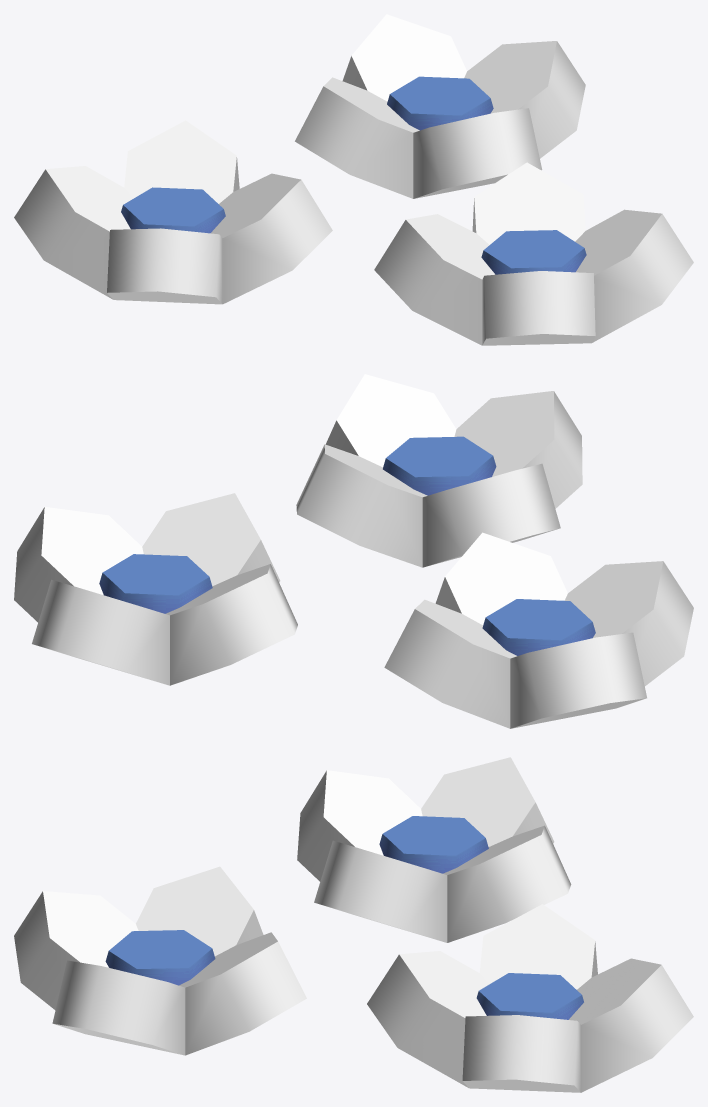
The model's file is flores brancas.glb.
3 renders of one model, top to bottom at view 1: azimuth 30°, elevation 25°; view 2: azimuth 150°, elevation 25°; view 3: azimuth 270°, elevation 25°, orthographic. The views are drawn at different scales.
Parts seen in each view (by area): view 1: Group.001, Group, Group.002; view 2: Group, Group.002, Group.001; view 3: Group.002, Group.001, Group.
Boxes of the visible parts, x1=… form: Group.001: x1=374, y1=162, x2=693, y2=345; Group: x1=14, y1=120, x2=332, y2=304; Group.002: x1=295, y1=14, x2=585, y2=198; Group: x1=384, y1=532, x2=693, y2=728; Group.002: x1=14, y1=493, x2=297, y2=685; Group.001: x1=296, y1=374, x2=582, y2=567; Group.002: x1=367, y1=904, x2=693, y2=1092; Group.001: x1=14, y1=866, x2=306, y2=1055; Group: x1=297, y1=757, x2=571, y2=942.
Bounding box in the file's own units: 0.7766 × 0.137 × 0.7857.
Materials: 1 (1 with a texture image).
